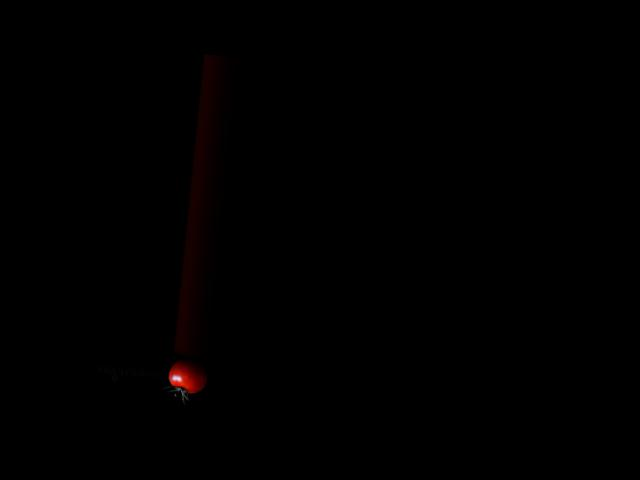tomato: (166, 357, 208, 394)
